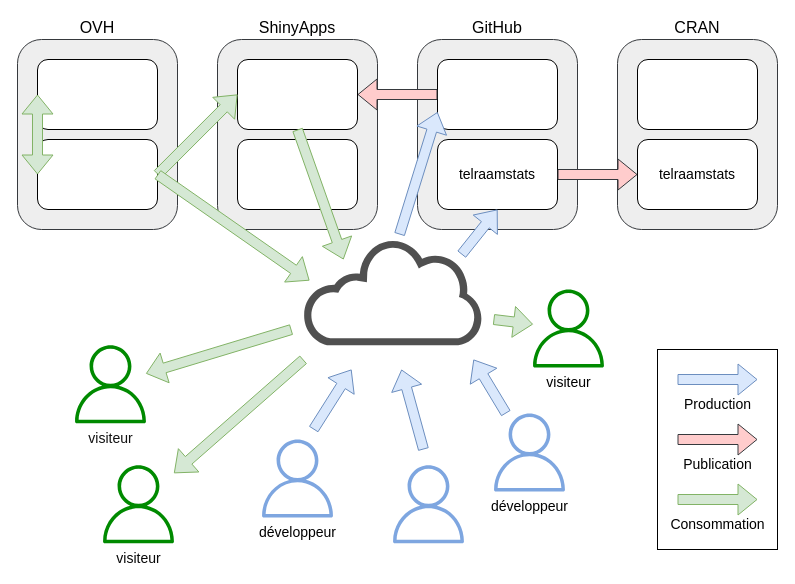
Image size: 795x584. Some labels were removed from this diagram. The centre of each missing label's shape, as x and y in pixels:
"agistaterre. shinyapps.io/ mov-around" belongs at point (297, 94).
"domaine agistaterre.org" belongs at point (97, 94).
"hébergement www. agistaterre.org" belongs at point (97, 174).
"Internet" belongs at point (393, 292).
"mov'around" belongs at point (497, 94).
"statisticien" belongs at point (428, 503).
